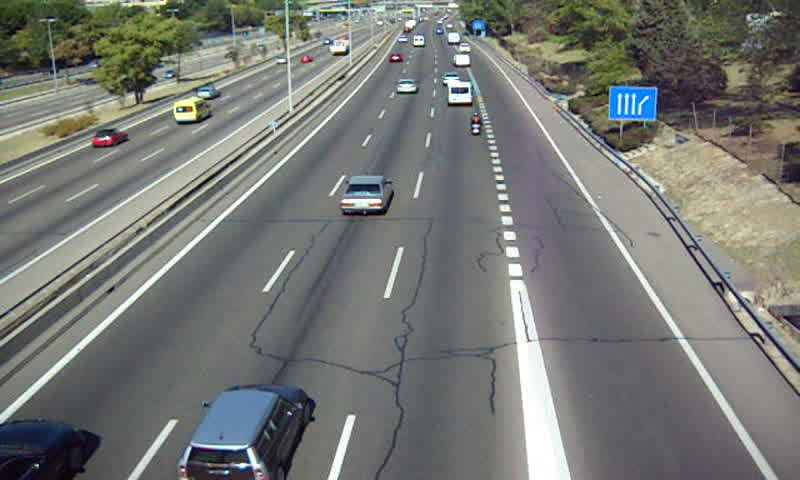car: (178, 384, 310, 480), (339, 175, 392, 214), (395, 78, 417, 95), (442, 72, 460, 86)
motorcycle: (470, 111, 483, 135)
van: (447, 81, 472, 106), (453, 54, 471, 67)
